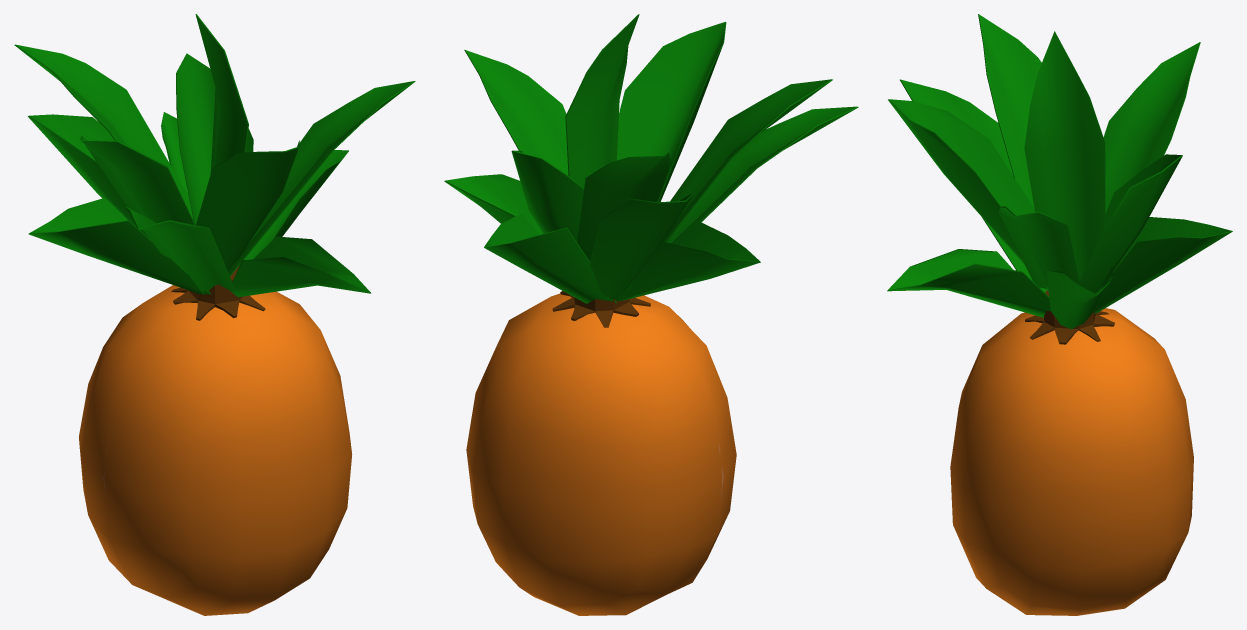
The model's file is Pineapple.fbx.
3 views of the same model, side by side, from view 1: azimuth 30°, elevation 25°; view 2: azimuth 150°, elevation 25°; view 3: azimuth 270°, elevation 25° (orthographic). The views are drawn at different scales.
Parts seen in each view (by area): view 1: Pineapple; view 2: Pineapple; view 3: Pineapple.
Part boxes in pixels (x1,y1,x2,y2): Pineapple: [14, 14, 415, 615]; Pineapple: [444, 14, 858, 615]; Pineapple: [887, 14, 1232, 615].
Bounding box in the file's own units: 18.55 × 29.8 × 16.68.
